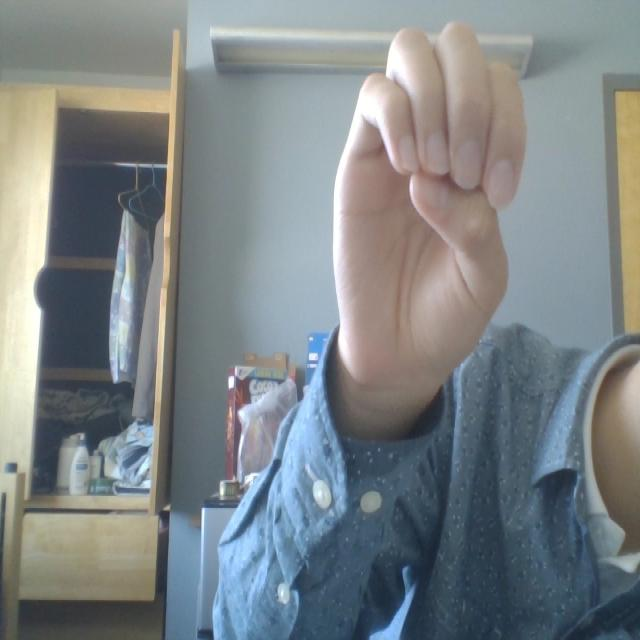E: (311, 21, 581, 422)
